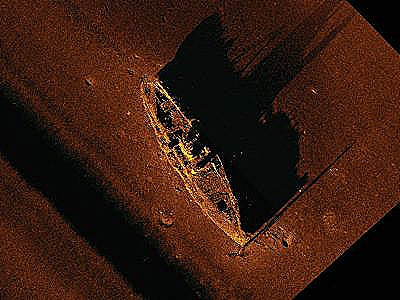ship: (138, 73, 249, 247)
